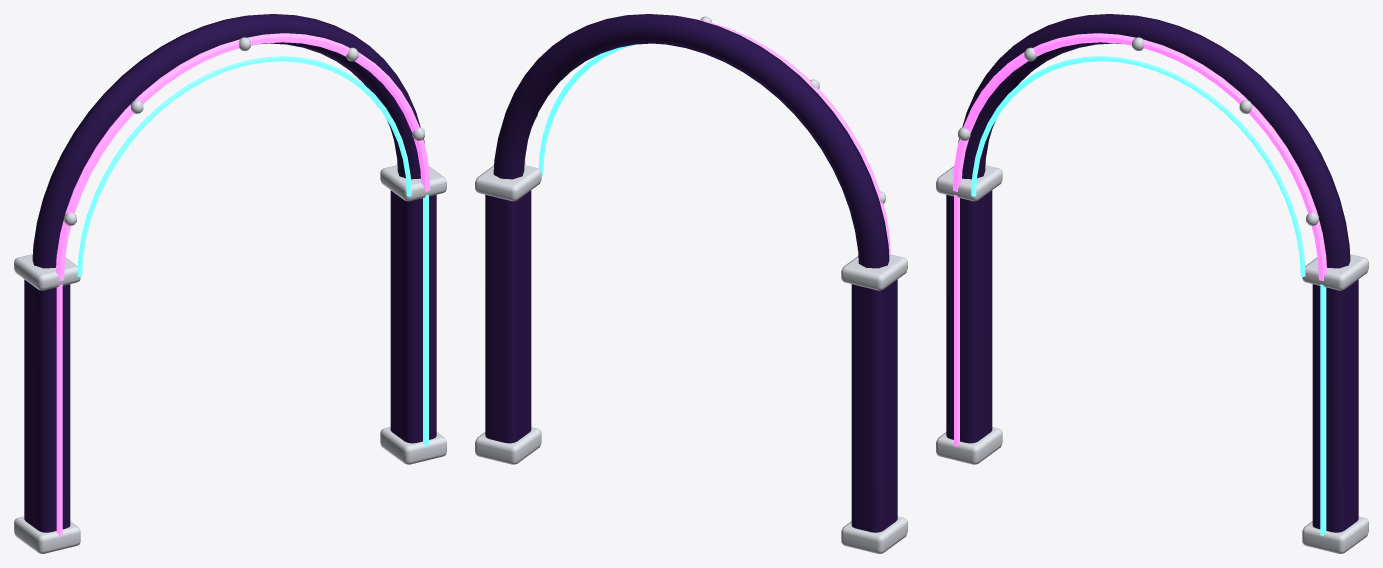
Rendered from neon_arch_gate.glb.
3 renders of one model, left to right at view 1: azimuth 30°, elevation 25°; view 2: azimuth 150°, elevation 25°; view 3: azimuth 330°, elevation 25°, orthographic.
Visible parts, largest first — view 1: neon_arch_gate; view 2: neon_arch_gate; view 3: neon_arch_gate.
Part boxes in pixels (bbox=[...]): neon_arch_gate: bbox=[14, 14, 446, 553]; neon_arch_gate: bbox=[475, 14, 907, 553]; neon_arch_gate: bbox=[936, 14, 1368, 553].
Size of the model in its own units: 2.68 by 2.99 by 0.358.
